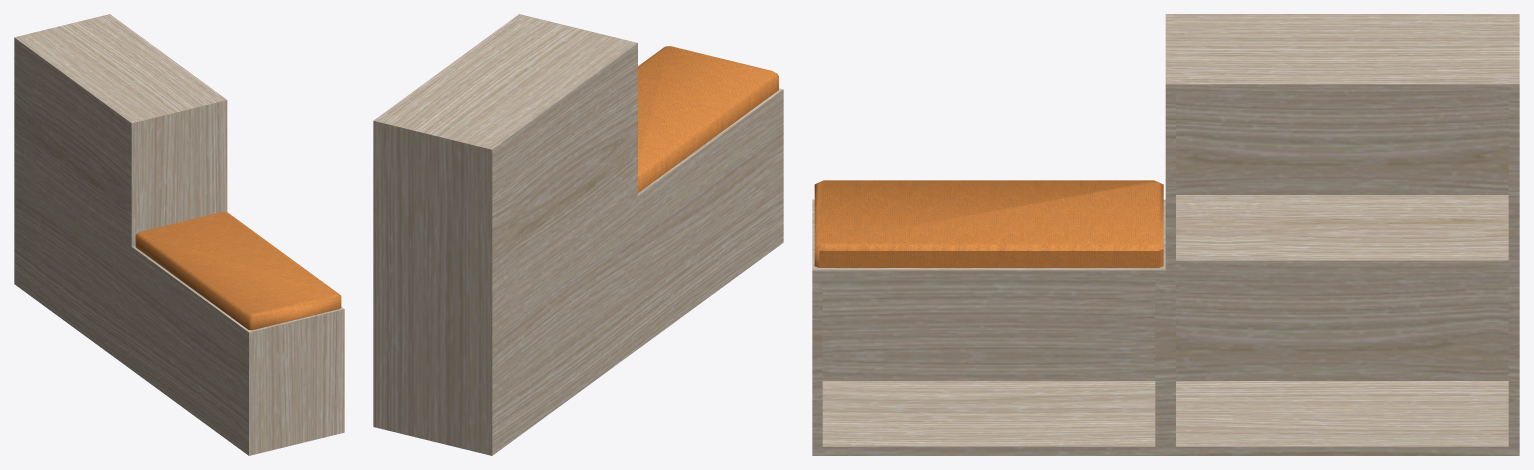
Rendered from DeskCase_06.FBX.
3 views of the same model, side by side, from view 1: azimuth 30°, elevation 25°; view 2: azimuth 150°, elevation 25°; view 3: azimuth 270°, elevation 25° (orthographic). The views are drawn at different scales.
Parts seen in each view (by area): view 1: DeskCase_06; view 2: DeskCase_06; view 3: DeskCase_06.
Boxes of the visible parts, x1,y1,x2,y2 form: DeskCase_06: (14,14,344,455); DeskCase_06: (373,14,783,455); DeskCase_06: (812,14,1519,455).
Size of the model in its own units: 0.6634 by 1.63 by 2.82.
